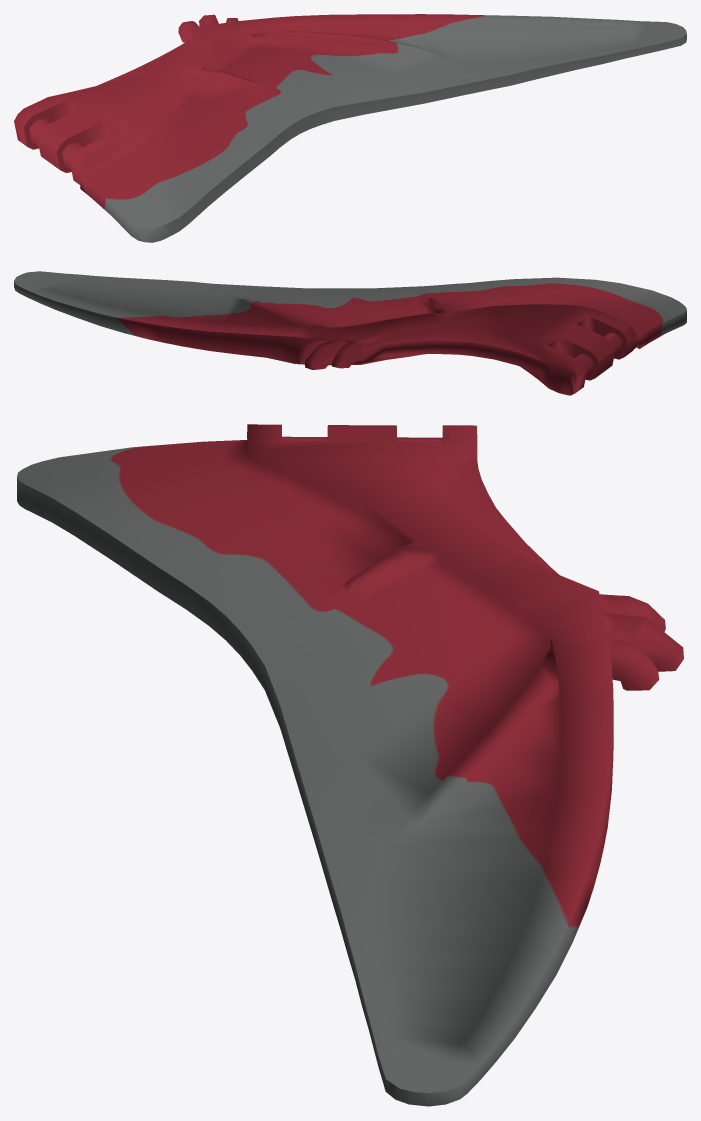
File: ala-derecha-ptero.obj
The picture shows the model from 3 angles, top to bottom: view 1: azimuth 30°, elevation 25°; view 2: azimuth 150°, elevation 25°; view 3: azimuth 270°, elevation 25°; orthographic projection. The views are drawn at different scales.
Parts seen in each view (by area): view 1: ala_derecha; view 2: ala_derecha; view 3: ala_derecha.
Boxes of the visible parts, box(x1,y1,x2,y2) form: ala_derecha: box(14, 14, 686, 242); ala_derecha: box(14, 271, 686, 395); ala_derecha: box(17, 424, 683, 1106).
Size of the model in its own units: 92.54 by 11.98 by 46.44.
Materials: 1 (1 with a texture image).
